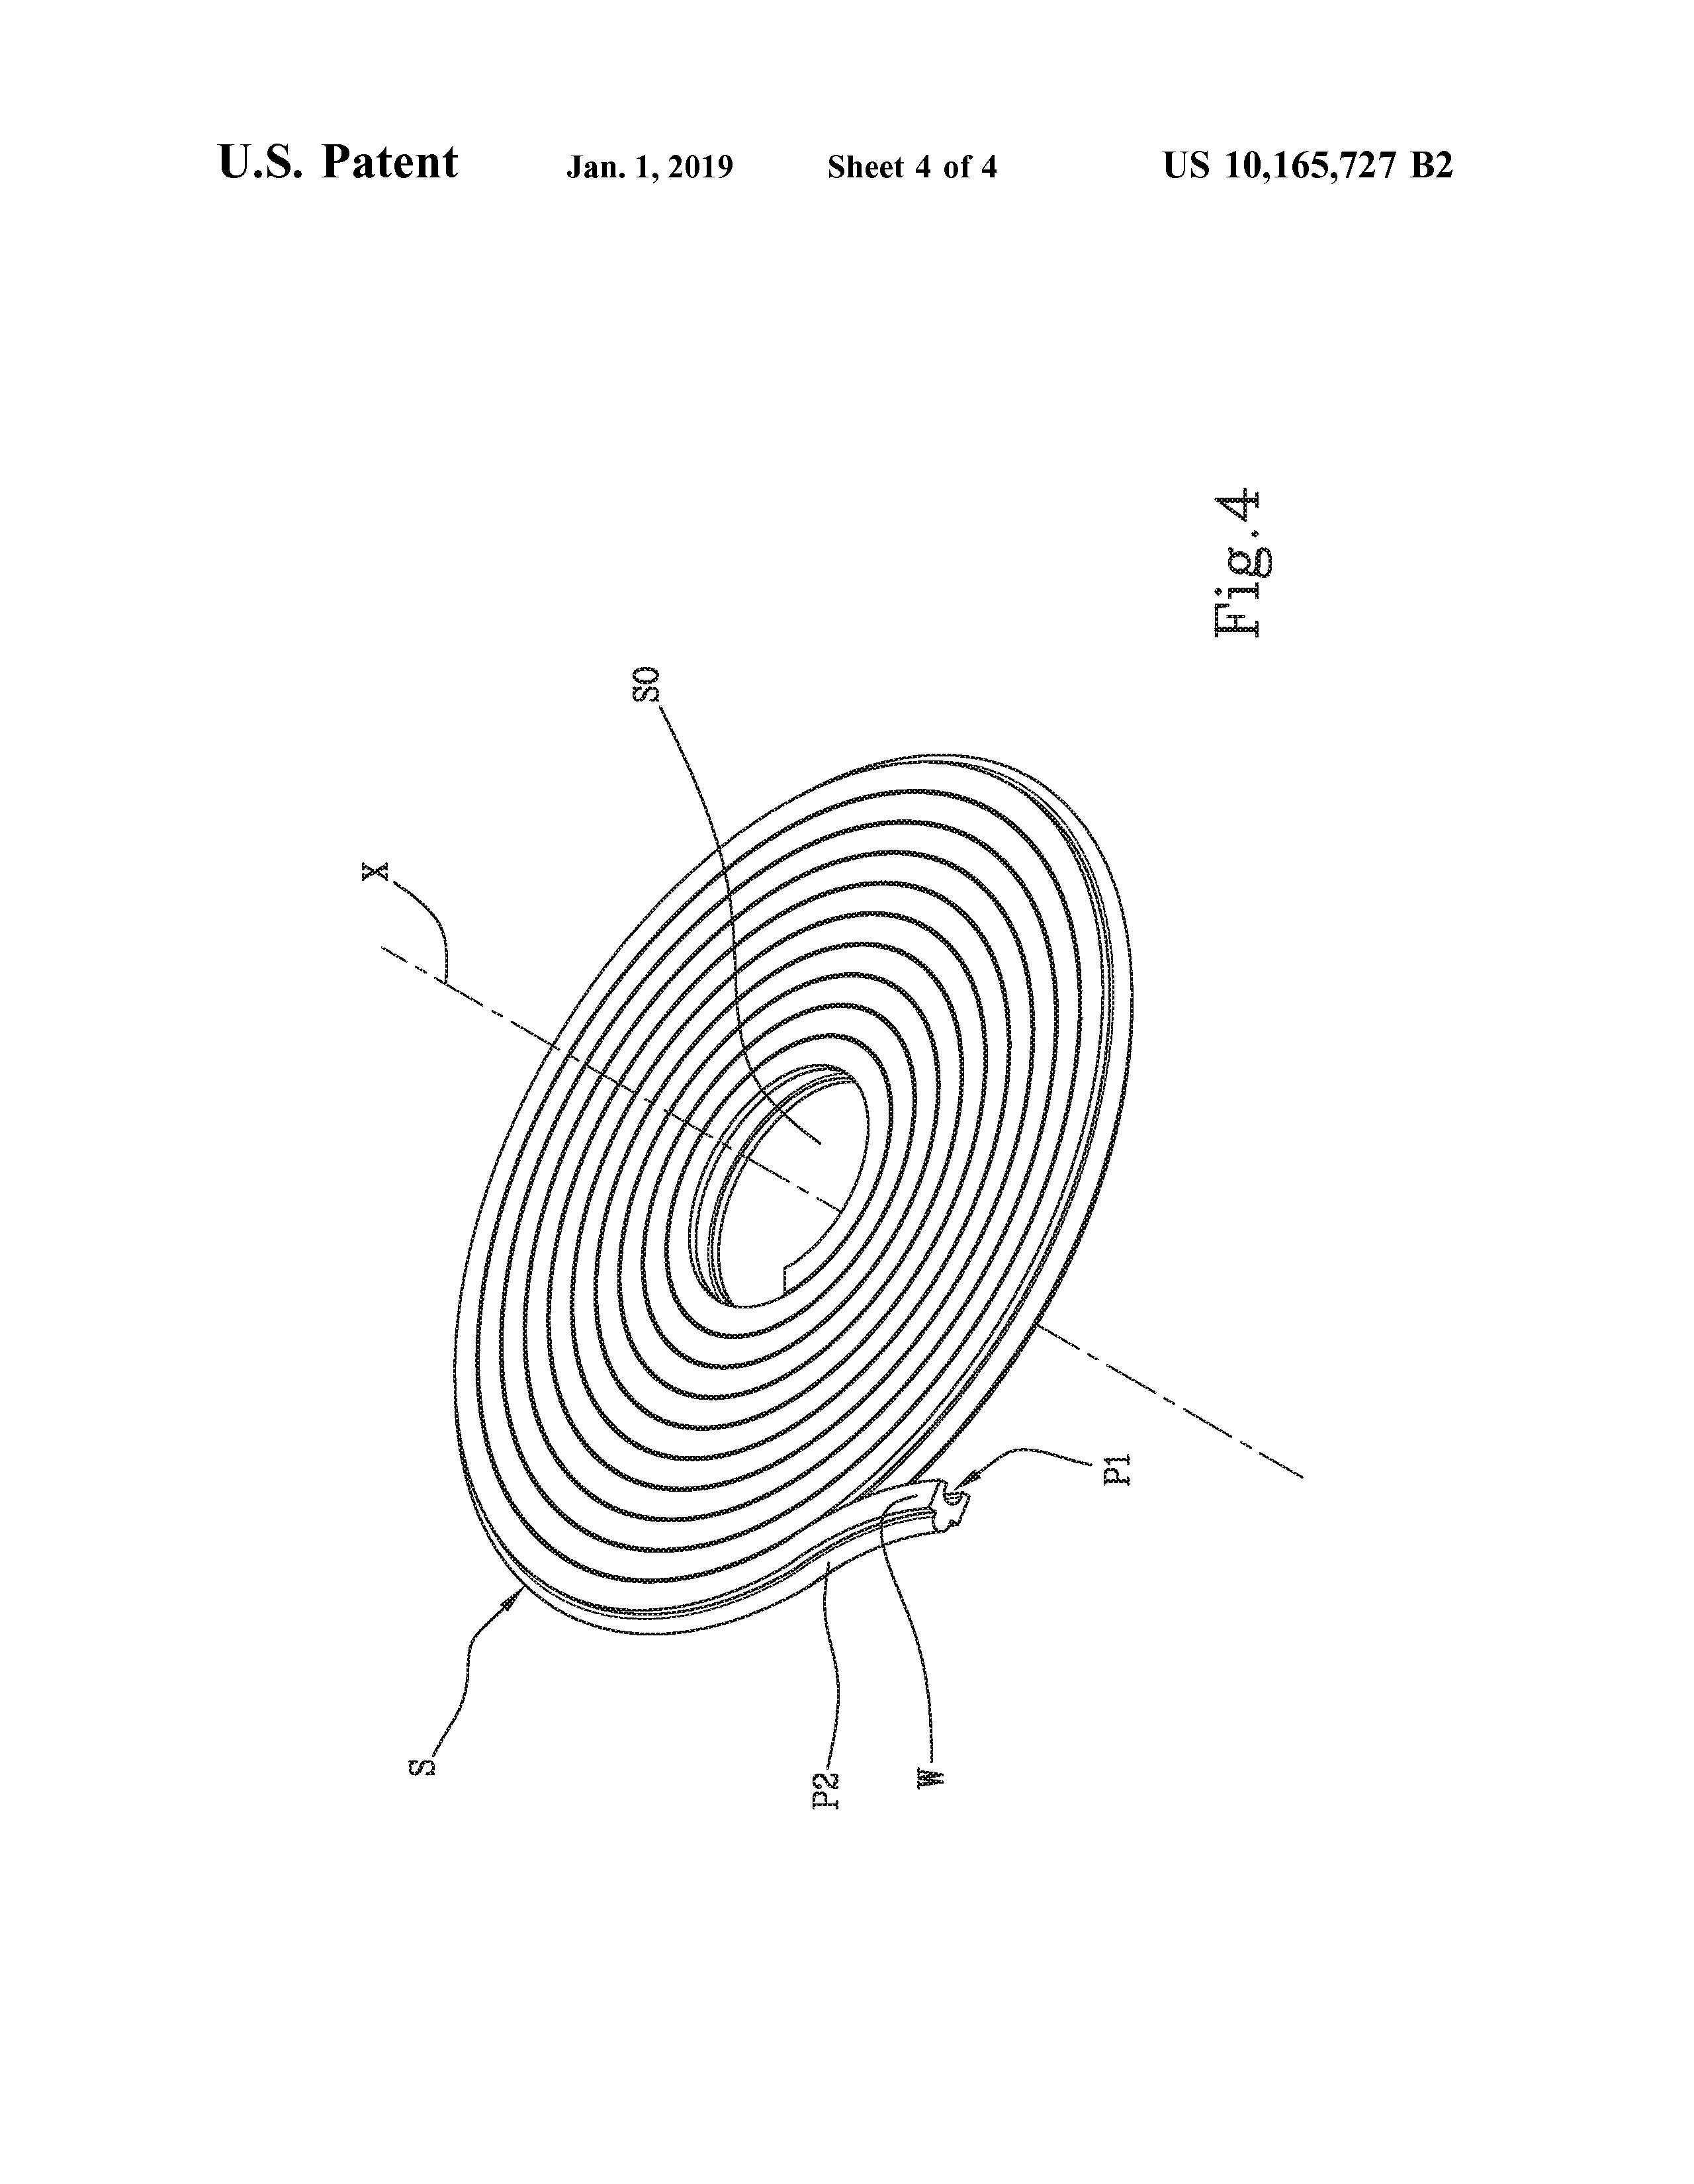patent image: (322, 406, 1461, 1925)
